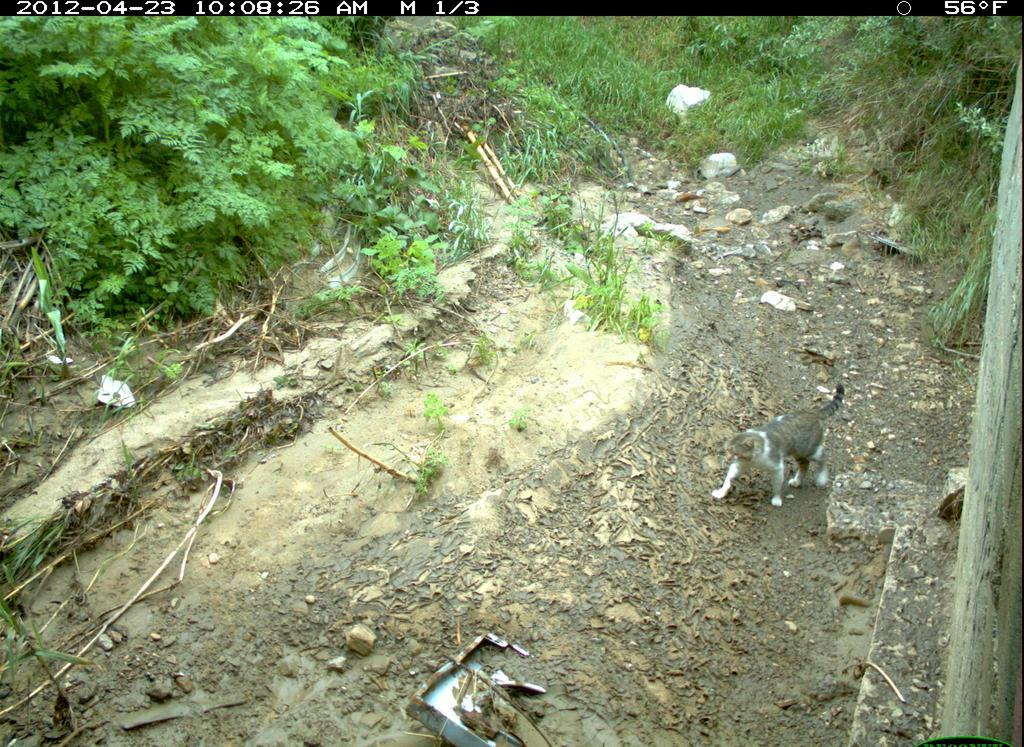cat: (701, 385, 856, 519)
